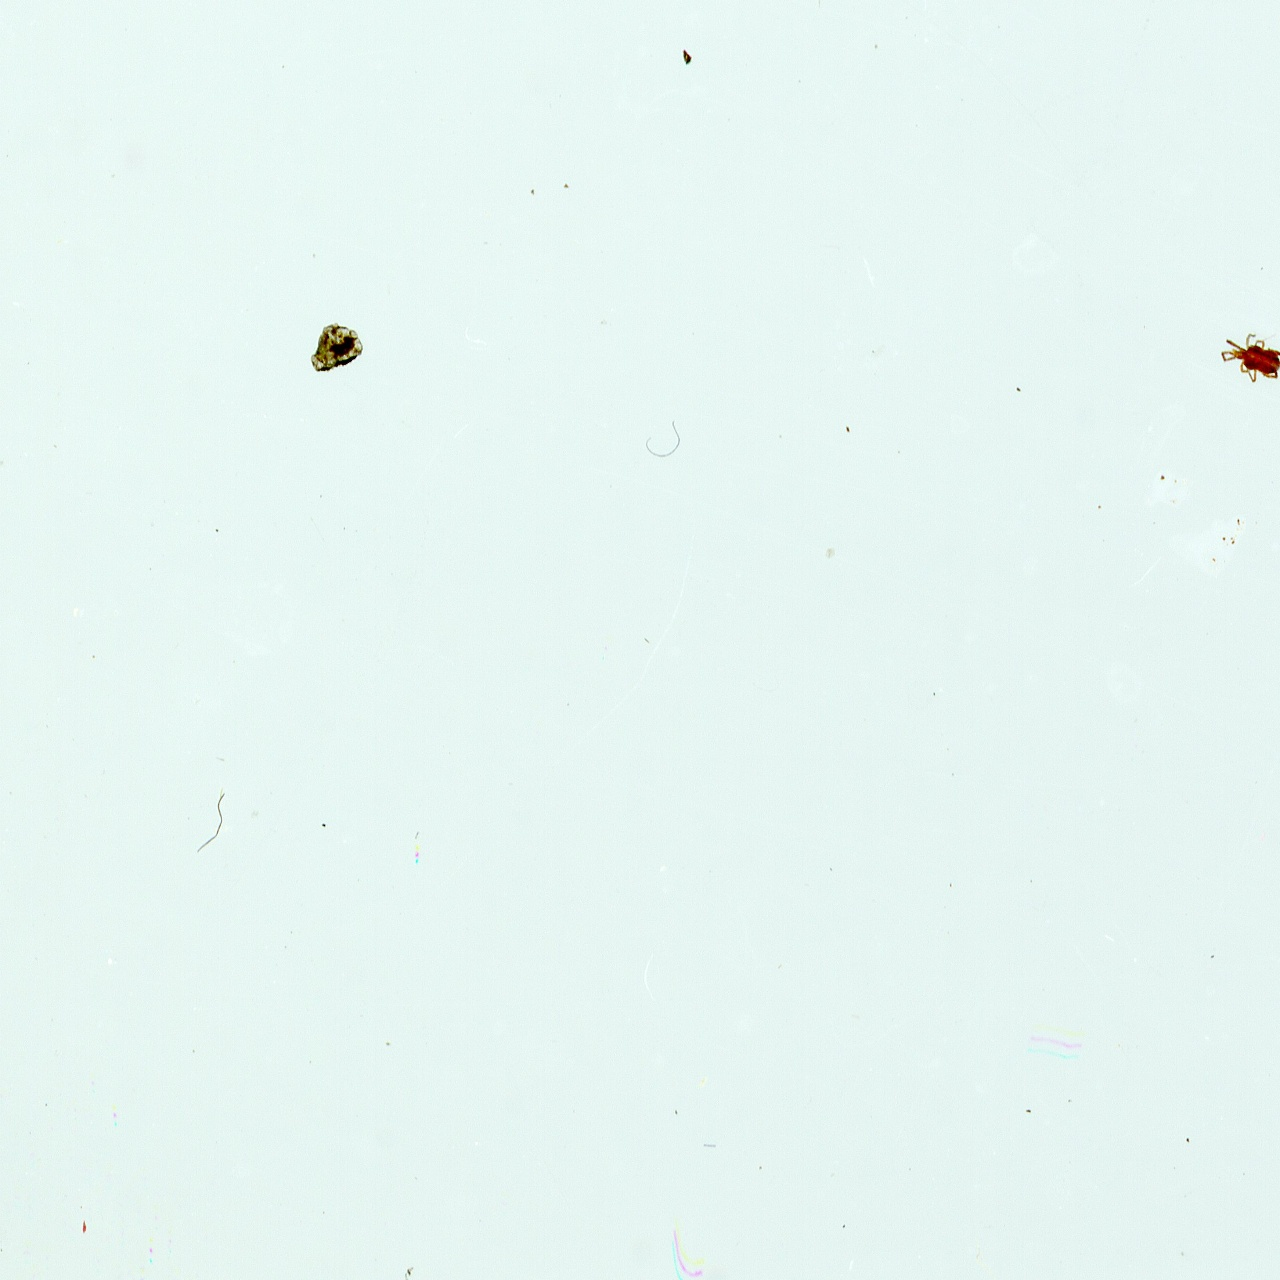arthropod: (1214, 330, 1280, 386)
